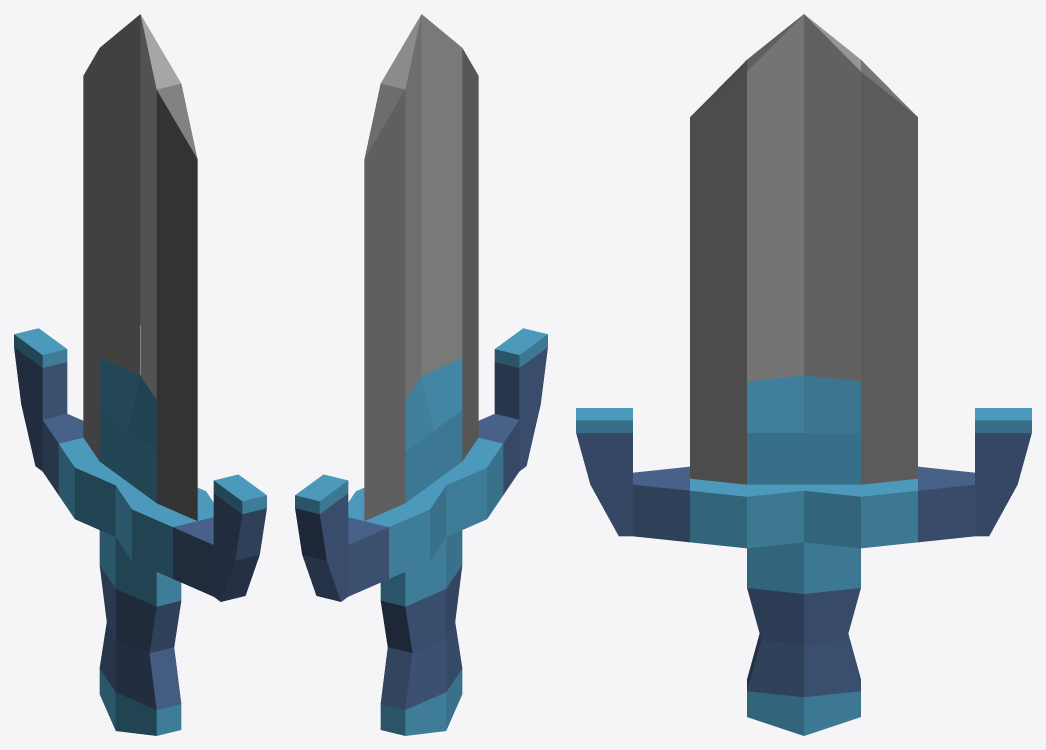
File: KoGaMa Sword.fbx
The picture shows the model from 3 angles, left to right: view 1: azimuth 30°, elevation 25°; view 2: azimuth 150°, elevation 25°; view 3: azimuth 270°, elevation 25°; orthographic projection.
Visible parts, largest first — view 1: Cube.005; view 2: Cube.005; view 3: Cube.005.
Boxes of the visible parts, bbox=[...] form: Cube.005: bbox=[14, 14, 266, 735]; Cube.005: bbox=[295, 14, 547, 735]; Cube.005: bbox=[576, 14, 1031, 735].
Size of the model in its own units: 600 by 5500 by 3200.
